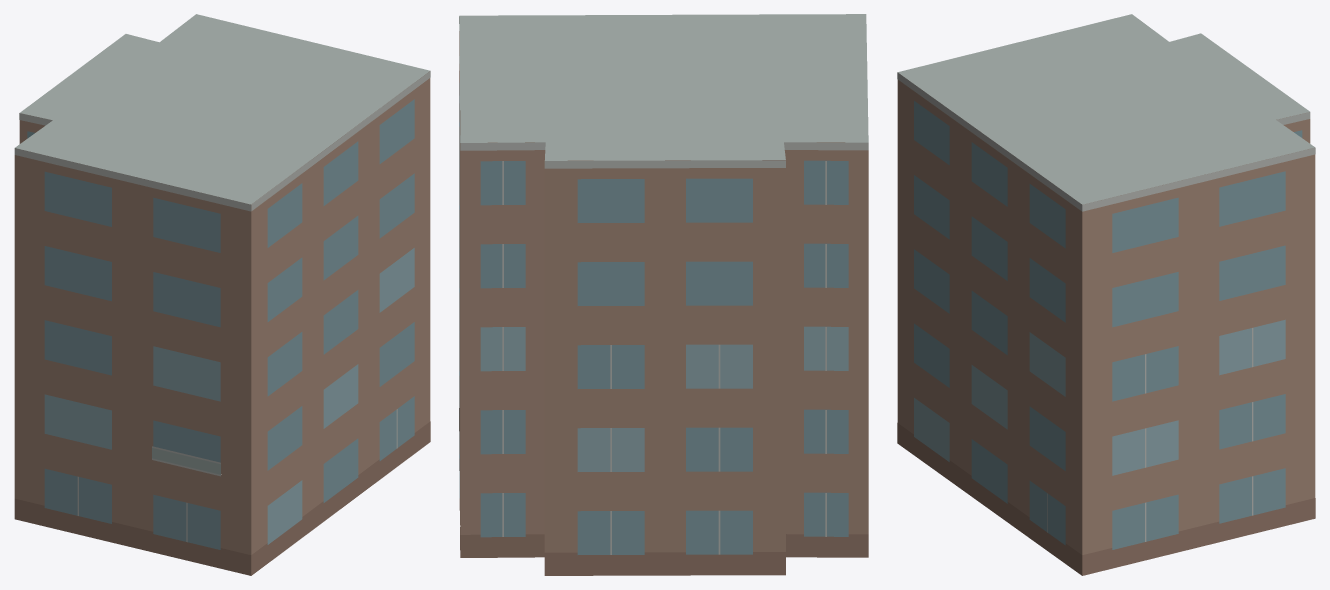
The model's file is survey-upis-32687781.glb.
3 renders of one model, left to right at view 1: azimuth 30°, elevation 25°; view 2: azimuth 150°, elevation 25°; view 3: azimuth 270°, elevation 25°, orthographic. The views are drawn at different scales.
Parts seen in each view (by area): view 1: survey-upis-32687781.tmp; view 2: survey-upis-32687781.tmp; view 3: survey-upis-32687781.tmp.
Boxes of the visible parts, x1,y1,x2,y2 form: survey-upis-32687781.tmp: (14, 14, 430, 575); survey-upis-32687781.tmp: (459, 14, 868, 575); survey-upis-32687781.tmp: (897, 14, 1315, 575).
Bounding box in the file's own units: 14.34 × 13 × 13.28.
